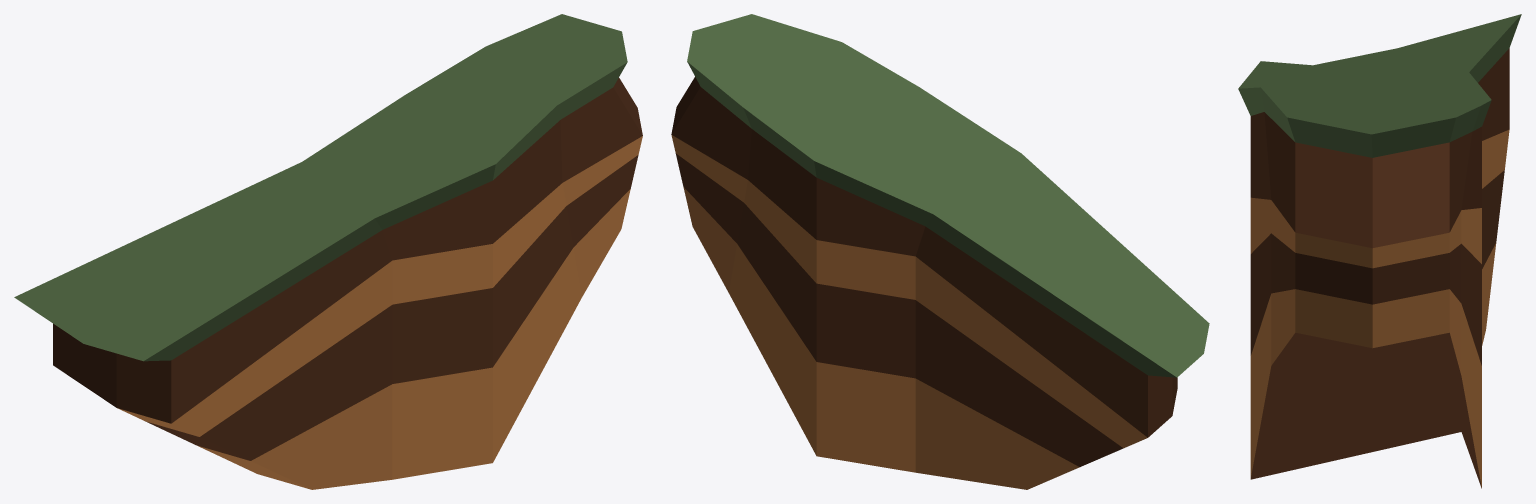
Rendered from CHAO10.fbx.
3 renders of one model, left to right at view 1: azimuth 30°, elevation 25°; view 2: azimuth 150°, elevation 25°; view 3: azimuth 270°, elevation 25°, orthographic. The views are drawn at different scales.
Parts seen in each view (by area): view 1: Cylinder.001; view 2: Cylinder.001; view 3: Cylinder.001.
Part boxes in pixels (x1,y1,x2,y2): Cylinder.001: [14, 14, 642, 489]; Cylinder.001: [671, 14, 1209, 489]; Cylinder.001: [1238, 14, 1521, 488].
Bounding box in the file's own units: 1953 × 1183 × 659.
